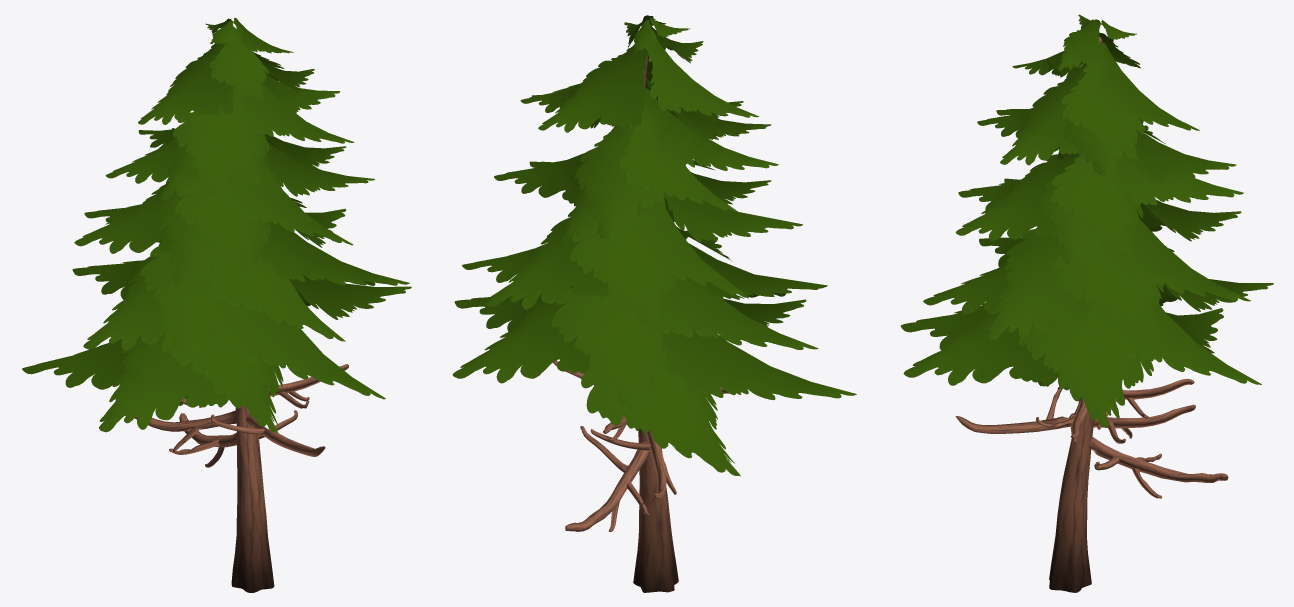
File: pine1.glb
3 renders of one model, left to right at view 1: azimuth 30°, elevation 25°; view 2: azimuth 150°, elevation 25°; view 3: azimuth 270°, elevation 25°, orthographic. The views are drawn at different scales.
Parts seen in each view (by area): view 1: Pine_1; view 2: Pine_1; view 3: Pine_1.
Boxes of the visible parts, <box> form: Pine_1: <box>22,18,411,592</box>; Pine_1: <box>452,15,856,592</box>; Pine_1: <box>900,14,1273,592</box>.
Size of the model in its own units: 4.94 by 7.32 by 4.54.
Materials: 2 (2 with a texture image).
